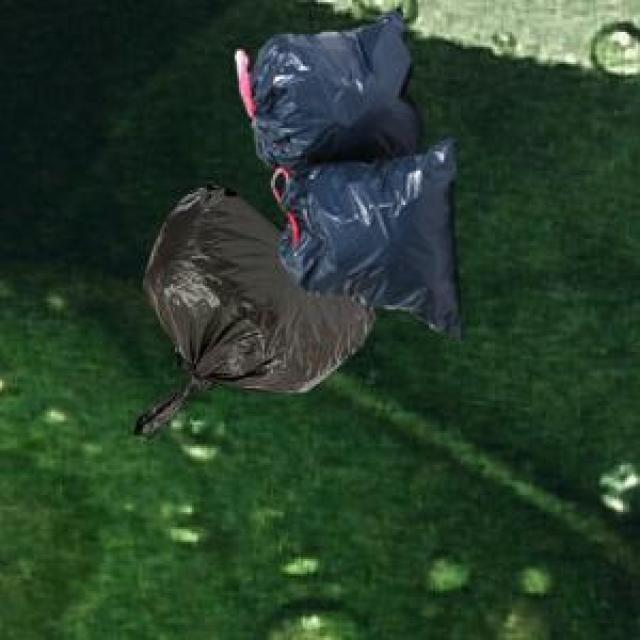Vinyl: (145, 14, 461, 391)
